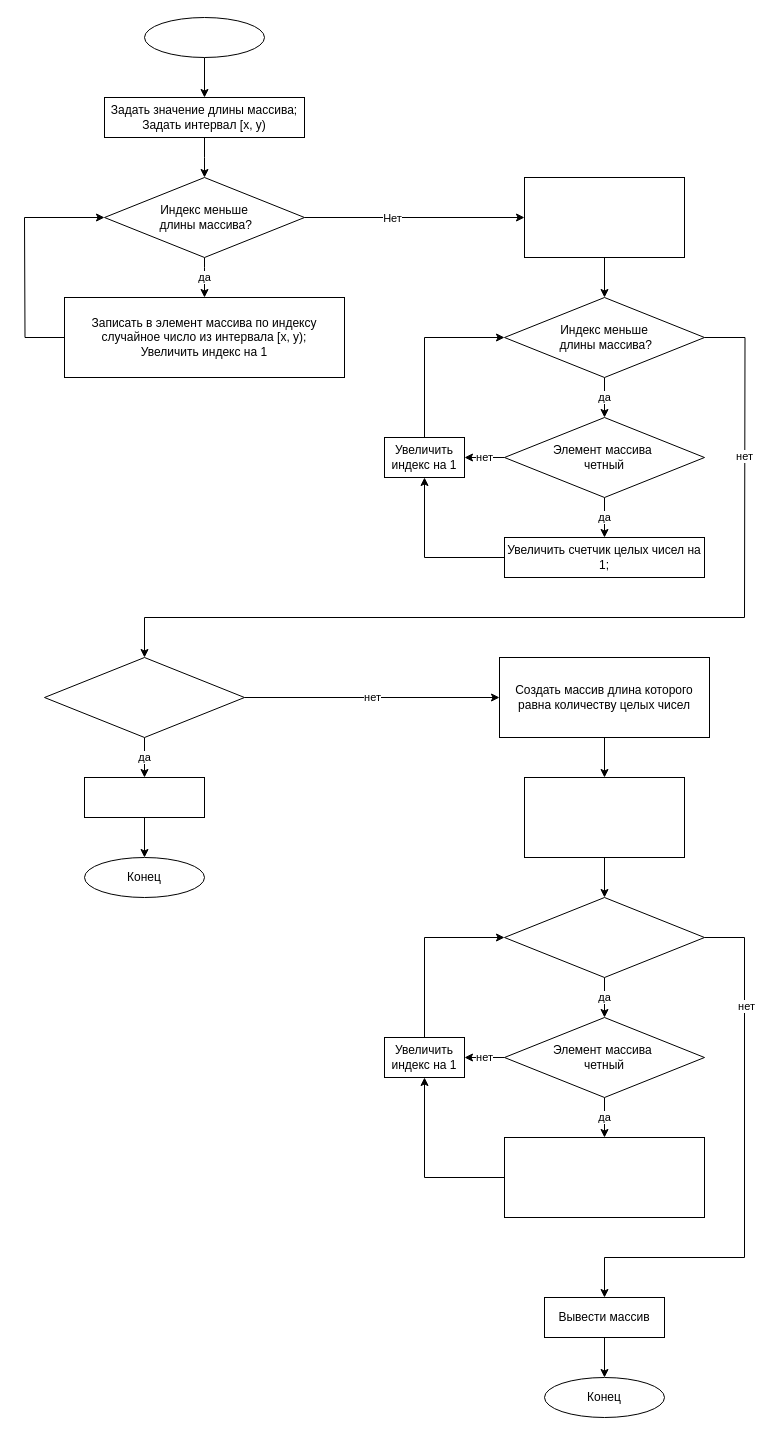
The diagram is 772 pixels wide and 1435 high, and some of its shapes have lost their labels. The box of each missing label's shape, as (x1, y1, x2, y2) in pixels:
Вывести -1: (84, 776, 204, 818)
Записать элемент в четный массив; Увеличить счетчик четного массива на 1: (504, 1136, 704, 1218)
Индекс меньше длины исходного массива?: (504, 896, 704, 978)
Начало: (144, 16, 264, 58)
Создать счетчик для индекса четного массива: (524, 776, 684, 858)
Создать счетчик целых числе в массиве: (524, 176, 684, 258)
Счетчик целых чисел равен 0?: (44, 656, 244, 738)
